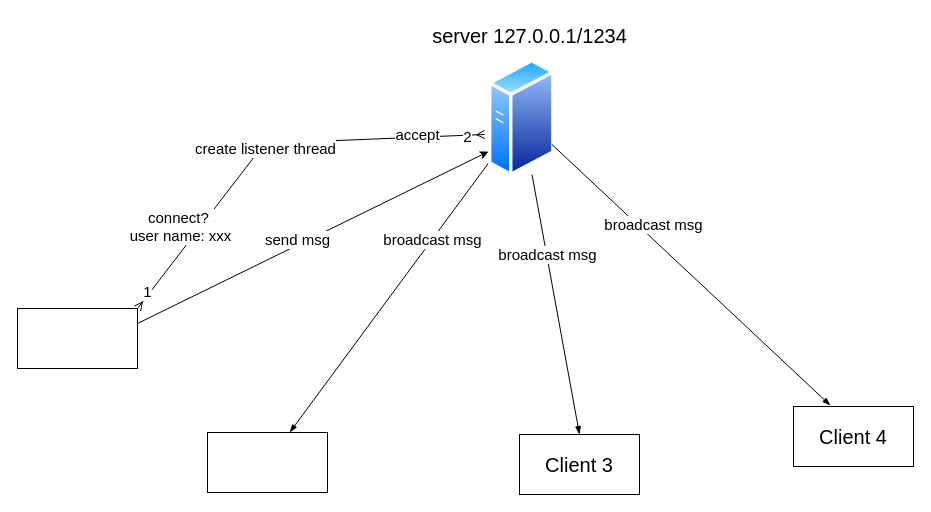
Some shapes in this 931 by 512 pixel diagram are drawn without their labels. Each missing label, with the centre of its shape:
"Client 1" goes at point 77,338.
"Client 2" goes at point 267,462.
